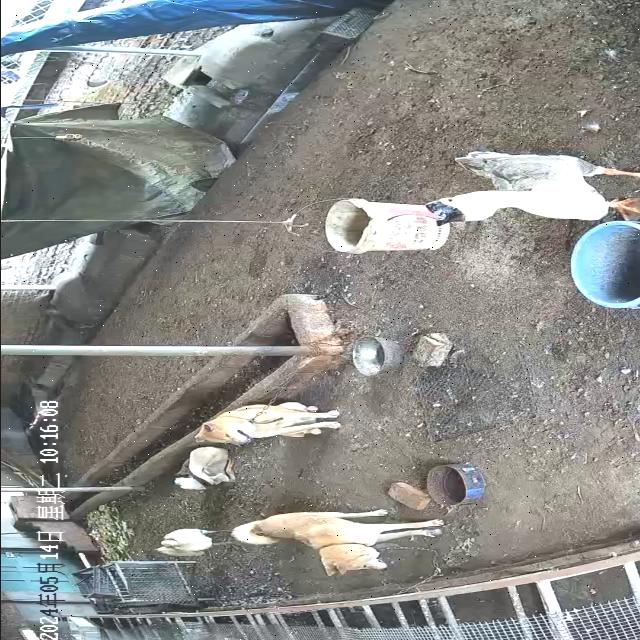dog: (230, 510, 446, 578), (194, 403, 342, 448)
